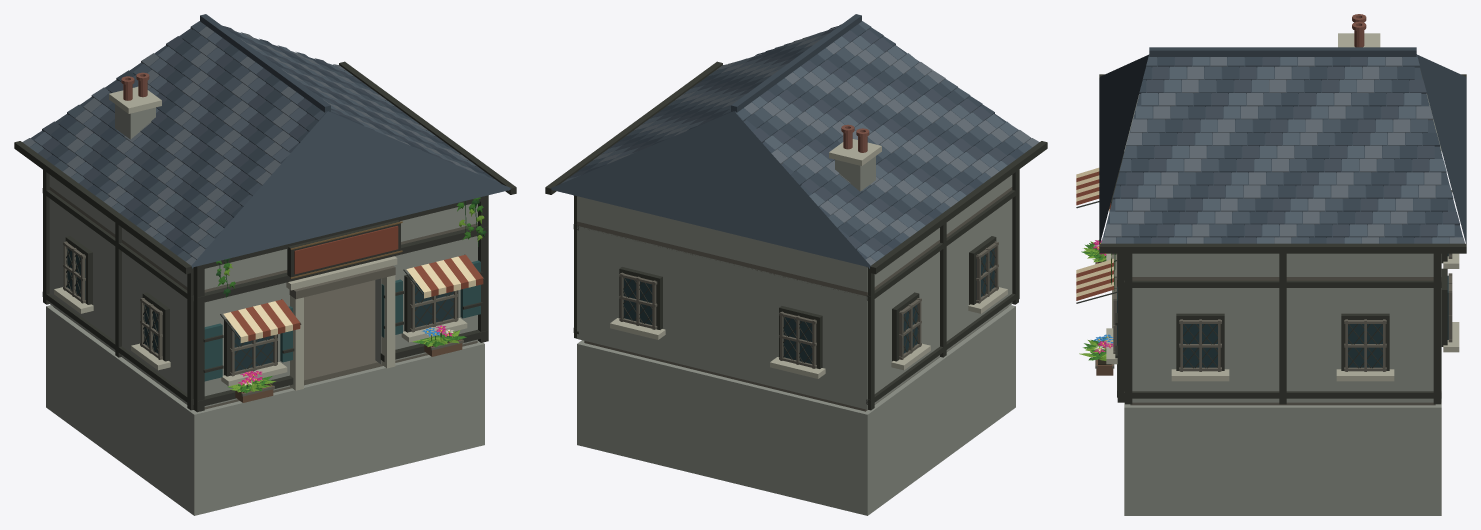
File: village_hearthside.glb
The picture shows the model from 3 angles, left to right: view 1: azimuth 30°, elevation 25°; view 2: azimuth 150°, elevation 25°; view 3: azimuth 270°, elevation 25°; orthographic projection. The views are drawn at different scales.
Visible parts, largest first — view 1: village_hearthside; view 2: village_hearthside; view 3: village_hearthside.
Part boxes in pixels (x1,y1,x2,y2): village_hearthside: (14,14,516,515); village_hearthside: (545,14,1047,515); village_hearthside: (1076,14,1466,515).
Size of the model in its own units: 9.78 by 10.34 by 9.35.
